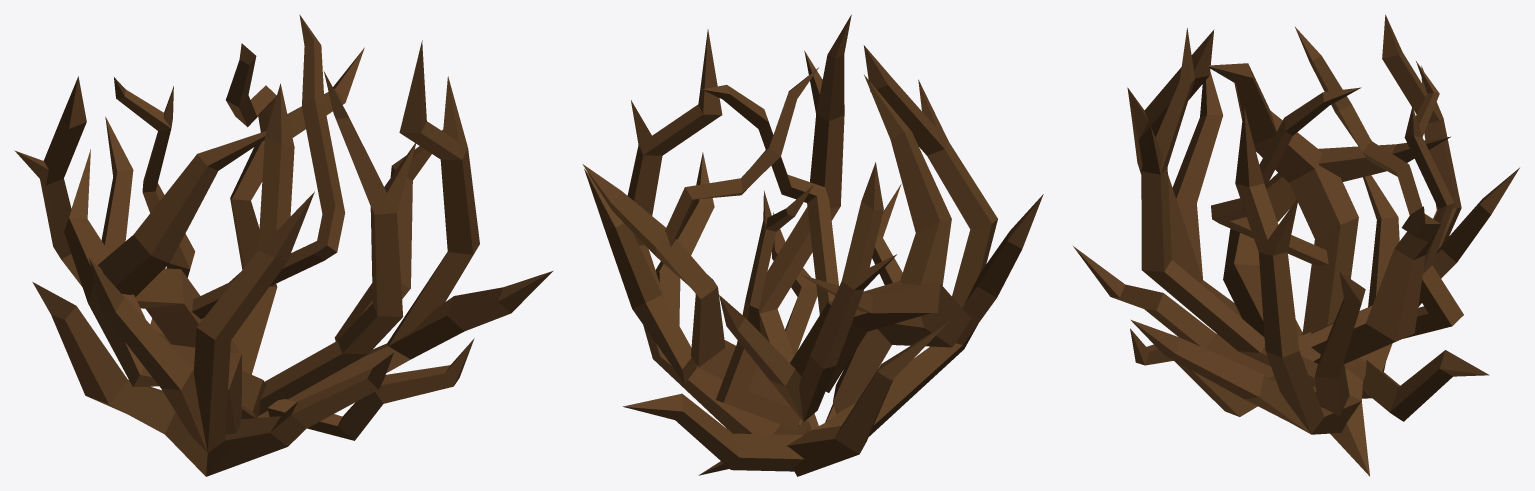
The model's file is SM_Bush_Tumbleweed_Mature_B.fbx.
3 views of the same model, side by side, from view 1: azimuth 30°, elevation 25°; view 2: azimuth 150°, elevation 25°; view 3: azimuth 270°, elevation 25° (orthographic). The views are drawn at different scales.
Parts seen in each view (by area): view 1: bush-tumbleweed-mature-b; view 2: bush-tumbleweed-mature-b; view 3: bush-tumbleweed-mature-b.
Part boxes in pixels (left/top/right/bottom): bush-tumbleweed-mature-b: left=14, top=14, right=552, bottom=476; bush-tumbleweed-mature-b: left=582, top=14, right=1043, bottom=476; bush-tumbleweed-mature-b: left=1073, top=14, right=1519, bottom=476.
Bounding box in the file's own units: 0.7207 × 0.7196 × 0.6981.
